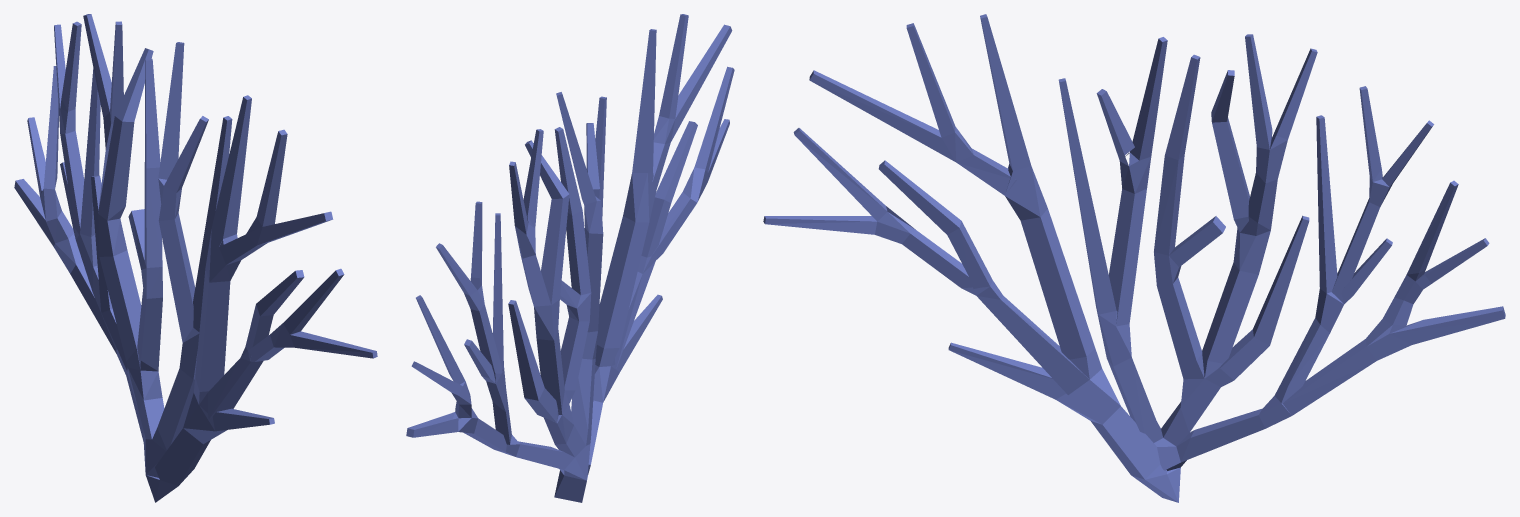
Rendered from coral_6.glb.
3 views of the same model, side by side, from view 1: azimuth 30°, elevation 25°; view 2: azimuth 150°, elevation 25°; view 3: azimuth 270°, elevation 25° (orthographic). The views are drawn at different scales.
Visible parts, largest first — view 1: Coral.006; view 2: Coral.006; view 3: Coral.006.
Part boxes in pixels (x1,y1,x2,y2): Coral.006: (14, 14, 377, 502); Coral.006: (406, 14, 734, 502); Coral.006: (763, 14, 1505, 502).
Bounding box in the file's own units: 5.08 × 38.78 × 53.73.
